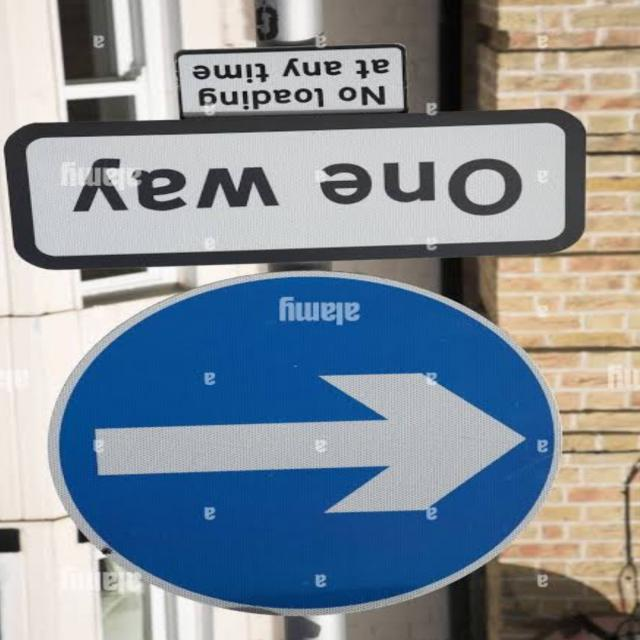Turn Right: (45, 274, 563, 619)
